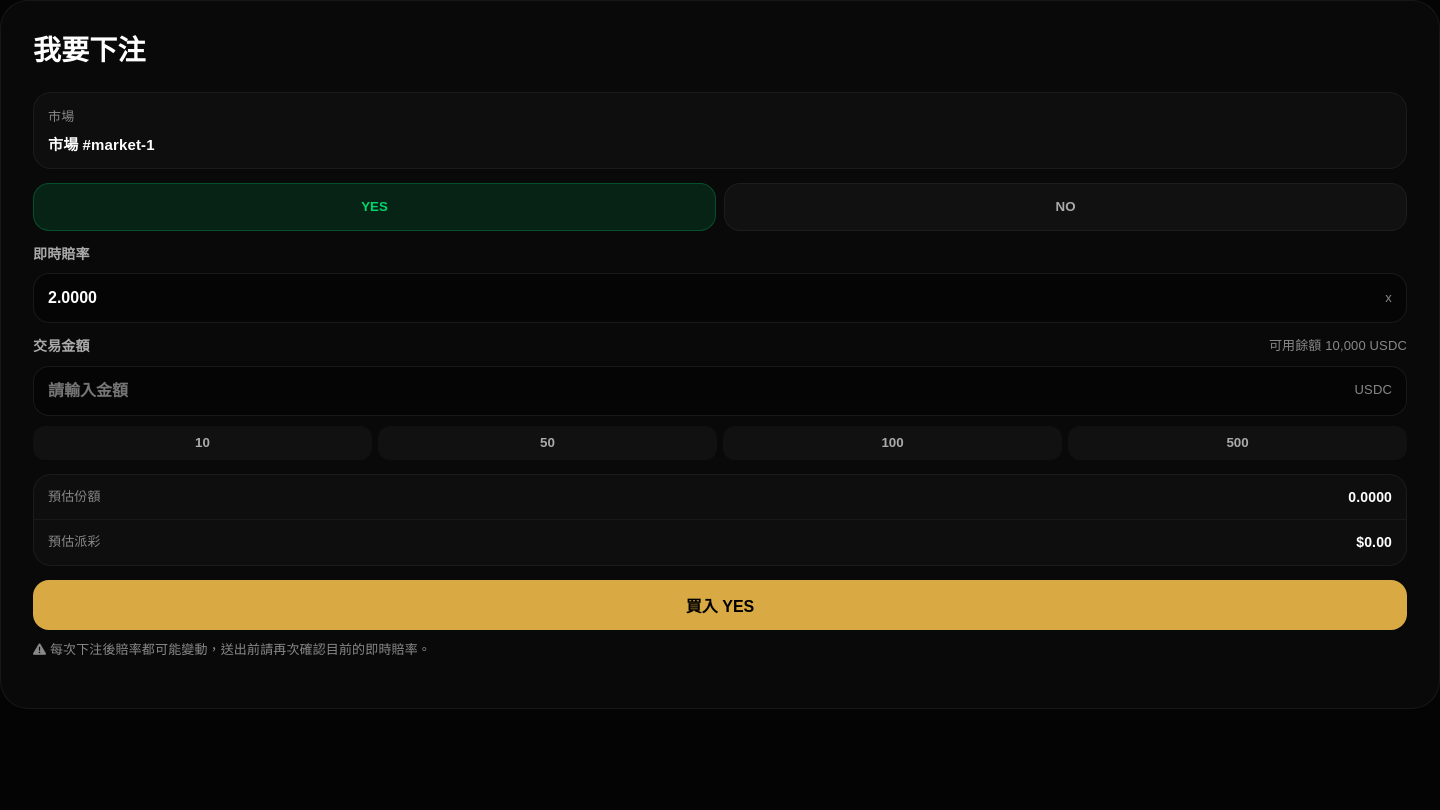
Test case: TradePanel › shows insufficient balance when the API returns 422
Click the button "10" at {"x": 202, "y": 443}, box [33,426,372,460]
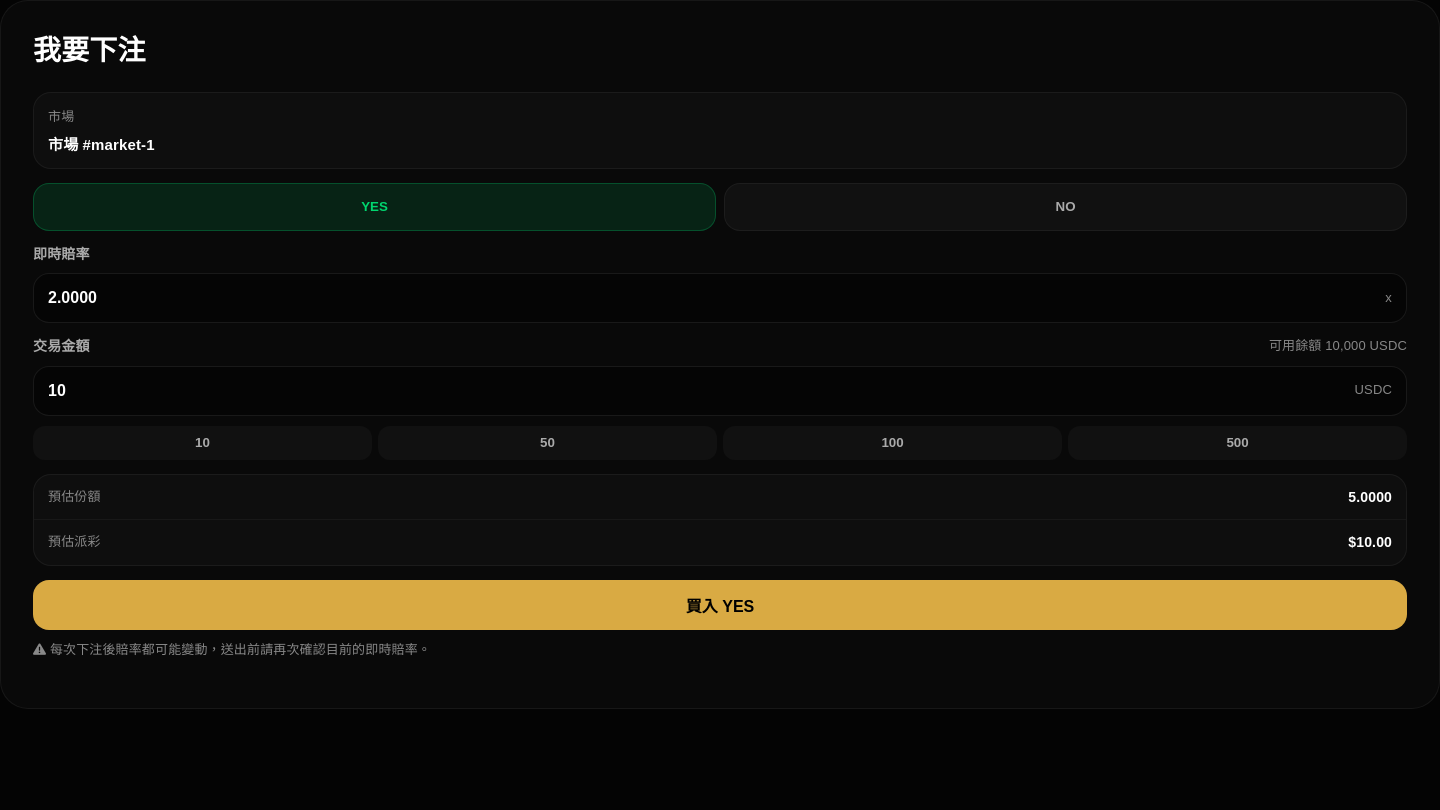
Click the button "買入 YES" at {"x": 720, "y": 604}, box [33,580,1407,630]
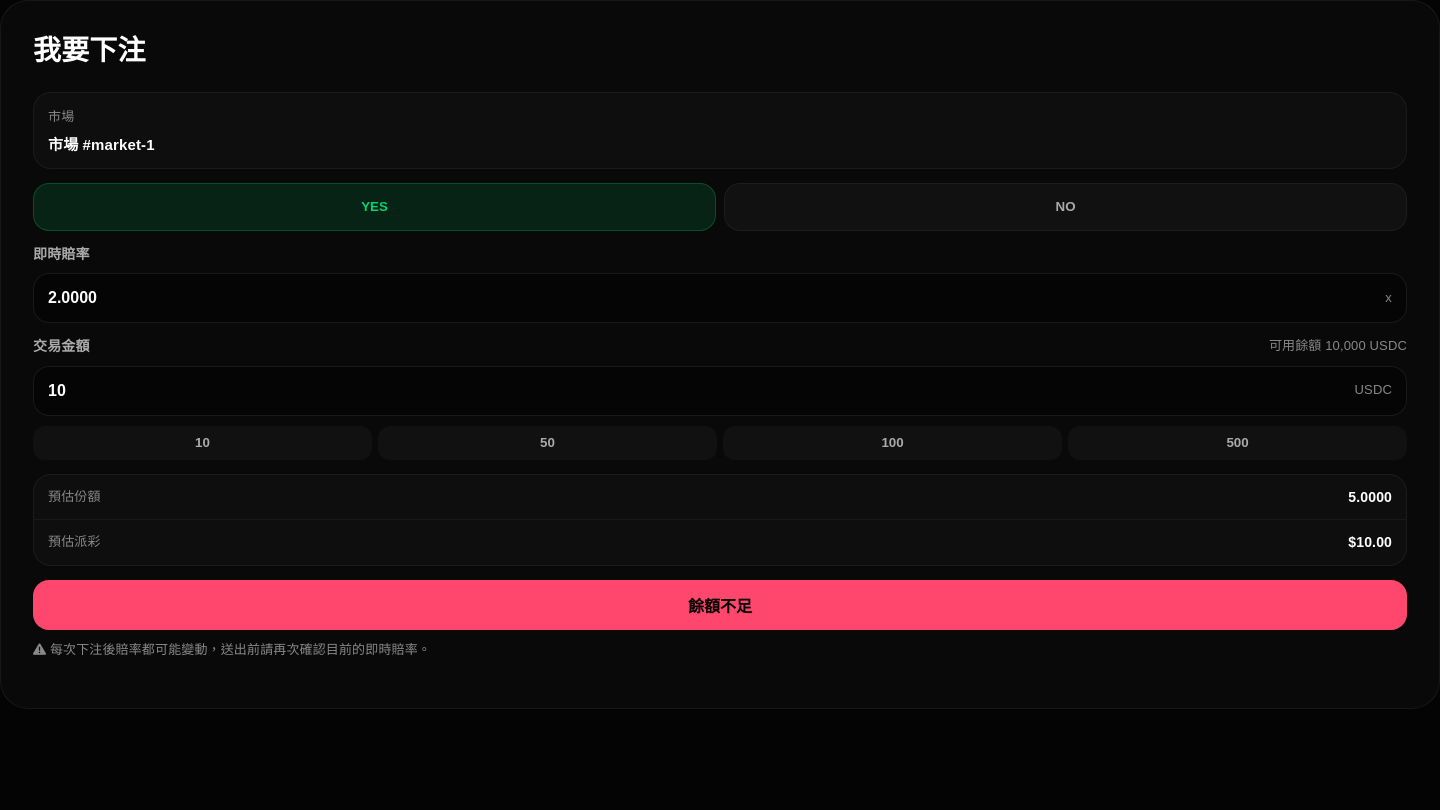
Result: the button "餘額不足" is shown at [33,580,1407,630]
